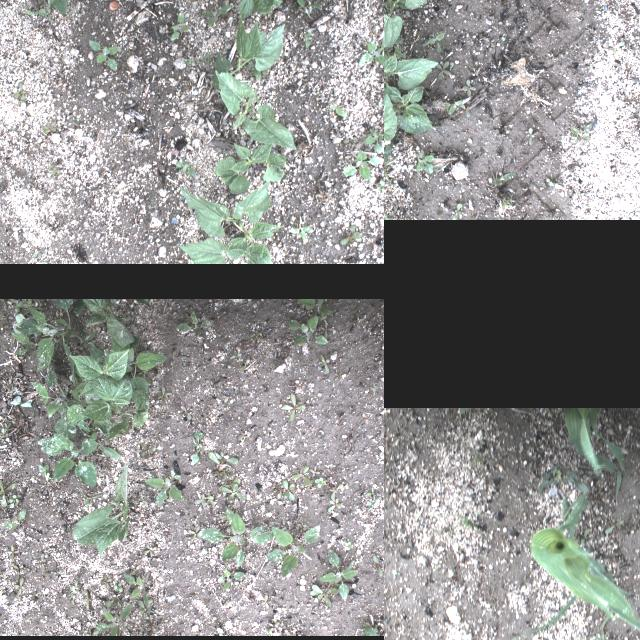crop: (531, 480, 640, 640), (181, 178, 283, 264), (10, 299, 104, 385), (561, 407, 640, 508), (493, 589, 640, 640), (68, 349, 148, 441), (71, 464, 145, 558), (216, 71, 296, 149), (210, 16, 284, 90), (214, 142, 286, 194), (384, 80, 440, 133), (384, 0, 434, 50), (82, 299, 134, 347), (178, 238, 262, 264), (384, 52, 438, 90), (213, 0, 284, 19), (384, 92, 397, 167), (362, 624, 376, 636), (133, 299, 147, 303)
weed: (102, 336, 166, 416), (198, 507, 276, 568), (30, 364, 88, 438), (36, 434, 98, 486), (264, 525, 320, 577), (318, 548, 356, 600), (522, 463, 580, 497), (208, 451, 245, 501), (78, 422, 122, 460), (144, 466, 184, 504), (341, 150, 384, 179), (95, 604, 132, 636), (287, 316, 327, 344), (175, 310, 212, 336), (88, 39, 118, 71), (25, 0, 84, 14), (124, 572, 148, 606), (357, 38, 384, 66), (200, 4, 232, 26), (309, 582, 336, 608), (286, 217, 314, 241), (282, 393, 306, 421), (0, 509, 28, 532), (216, 570, 244, 590), (291, 0, 320, 19), (296, 299, 330, 315), (363, 128, 383, 154), (9, 298, 41, 314), (170, 12, 188, 40), (568, 123, 592, 143), (421, 32, 445, 52), (271, 480, 295, 500), (0, 479, 17, 507), (415, 150, 433, 174), (291, 466, 311, 486), (363, 488, 381, 510), (245, 56, 261, 80), (190, 432, 202, 464), (174, 161, 196, 177), (80, 492, 102, 508), (435, 60, 451, 80), (338, 232, 362, 245), (491, 173, 517, 185), (12, 80, 26, 102), (37, 464, 54, 481), (0, 422, 11, 448), (326, 104, 346, 118), (443, 100, 463, 114), (194, 492, 214, 506), (31, 0, 49, 15), (105, 594, 124, 608), (137, 598, 153, 614), (348, 225, 362, 243), (524, 128, 538, 146), (320, 320, 334, 338), (604, 520, 622, 534), (13, 578, 25, 598), (157, 386, 171, 402), (318, 353, 329, 373), (372, 555, 382, 577), (463, 79, 475, 97), (451, 204, 464, 220), (68, 580, 78, 600), (42, 120, 56, 134), (48, 167, 62, 181), (140, 444, 154, 458), (142, 544, 156, 558), (6, 546, 20, 560), (328, 496, 340, 512), (35, 554, 45, 572), (24, 8, 48, 15), (250, 330, 264, 342), (331, 484, 343, 498), (236, 429, 250, 441), (100, 574, 112, 588), (0, 540, 7, 564), (368, 381, 378, 397), (260, 594, 270, 610), (82, 590, 90, 610), (580, 528, 590, 544), (33, 247, 45, 259), (308, 465, 320, 477), (266, 622, 278, 634), (180, 406, 190, 420), (85, 626, 99, 636), (8, 494, 18, 508), (458, 105, 469, 117), (237, 358, 249, 369), (304, 28, 310, 48), (393, 46, 405, 56), (314, 478, 326, 488), (342, 138, 356, 146), (191, 526, 199, 540), (376, 180, 384, 193), (203, 53, 213, 63), (229, 352, 241, 360), (343, 541, 352, 551), (318, 312, 326, 322), (221, 395, 231, 403), (70, 600, 78, 610), (112, 584, 121, 592), (12, 566, 18, 578), (0, 300, 6, 312), (183, 58, 190, 68), (304, 484, 314, 490), (47, 7, 51, 20), (102, 104, 110, 110), (2, 316, 14, 320), (195, 56, 202, 62), (144, 616, 152, 620), (0, 570, 2, 580), (0, 409, 3, 415), (50, 572, 56, 574)
